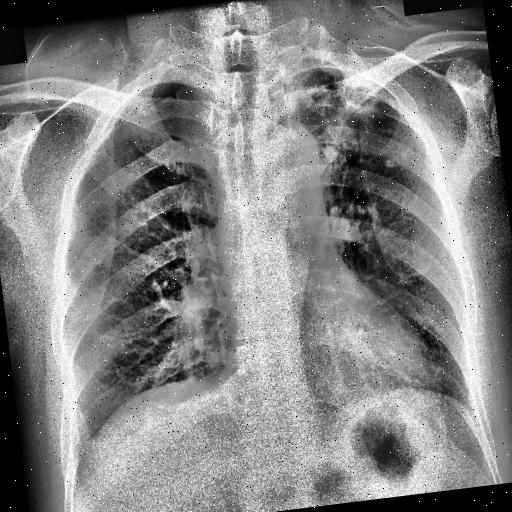0- Aortic enlargement: (244, 118, 322, 210), (252, 115, 325, 210), (257, 119, 325, 217)
13- Pulmonary fibrosis: (296, 66, 424, 255), (282, 54, 424, 180), (296, 61, 406, 181)
6- Infiltration: (296, 61, 406, 181)
8- Nodule-Mass: (383, 150, 411, 170)
